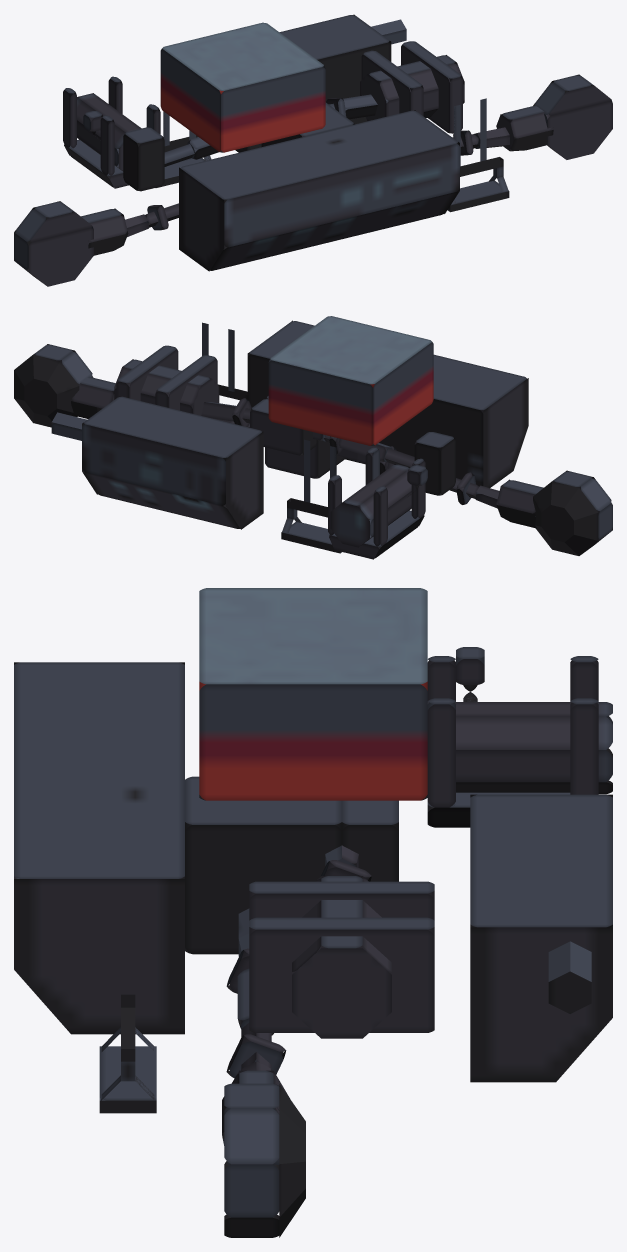
Rendered from gc220ii_equipment_1.obj.
3 renders of one model, top to bottom at view 1: azimuth 30°, elevation 25°; view 2: azimuth 150°, elevation 25°; view 3: azimuth 270°, elevation 25°, orthographic. The views are drawn at different scales.
Parts seen in each view (by area): view 1: gc220ii_equipment_1; view 2: gc220ii_equipment_1; view 3: gc220ii_equipment_1.
Part boxes in pixels (left/top/right/bottom): gc220ii_equipment_1: left=14, top=14, right=612, bottom=286; gc220ii_equipment_1: left=14, top=316, right=612, bottom=559; gc220ii_equipment_1: left=14, top=588, right=612, bottom=1237.
Bounding box in the file's own units: 5.58 × 1.45 × 2.62.
